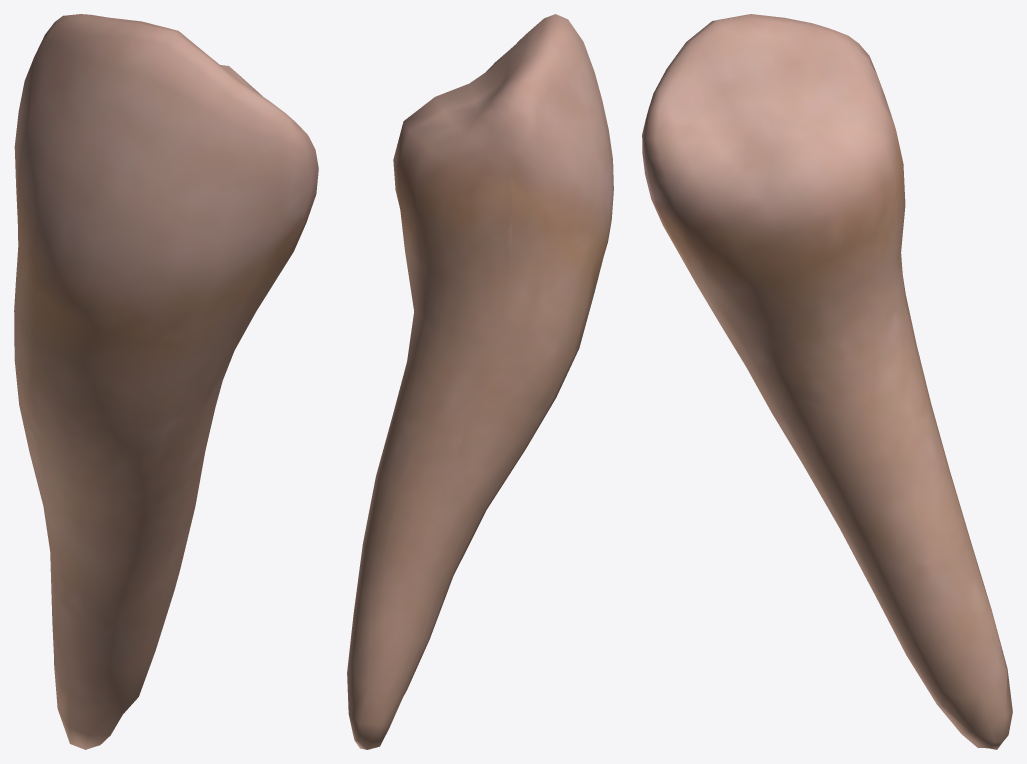
3 views of the same model, side by side, from view 1: azimuth 30°, elevation 25°; view 2: azimuth 150°, elevation 25°; view 3: azimuth 270°, elevation 25° (orthographic). The views are drawn at different scales.
Visible parts, largest first — view 1: t_44; view 2: t_44; view 3: t_44.
Part boxes in pixels (x1,y1,x2,y2): t_44: (14, 14, 318, 749); t_44: (347, 14, 613, 749); t_44: (642, 14, 1012, 749).
Size of the model in its own units: 0.0606 by 0.203 by 0.0978.
Materials: 1 (1 with a texture image).
